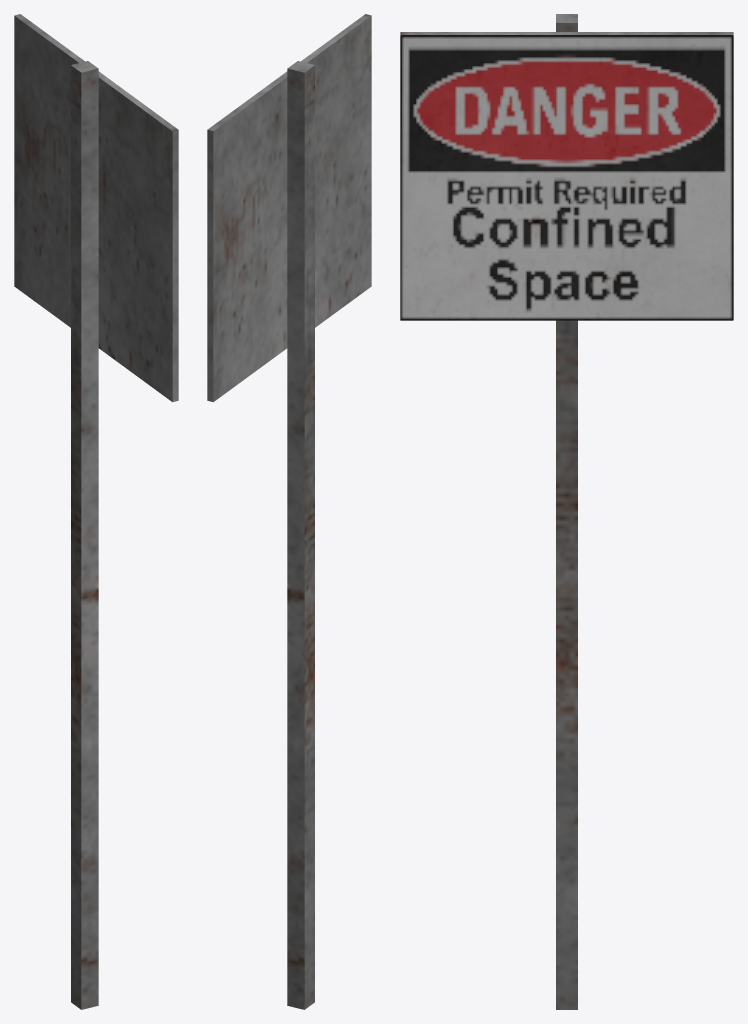
The model's file is Sign_6.fbx.
3 renders of one model, left to right at view 1: azimuth 30°, elevation 25°; view 2: azimuth 150°, elevation 25°; view 3: azimuth 270°, elevation 25°, orthographic. The views are drawn at different scales.
Visible parts, largest first — view 1: Sign_6; view 2: Sign_6; view 3: Sign_6.
Boxes of the visible parts, x1,y1,x2,y2 form: Sign_6: [14, 14, 178, 1009]; Sign_6: [207, 14, 371, 1009]; Sign_6: [400, 14, 733, 1009].
Bounding box in the file's own units: 5.76 × 221 × 67.46.
